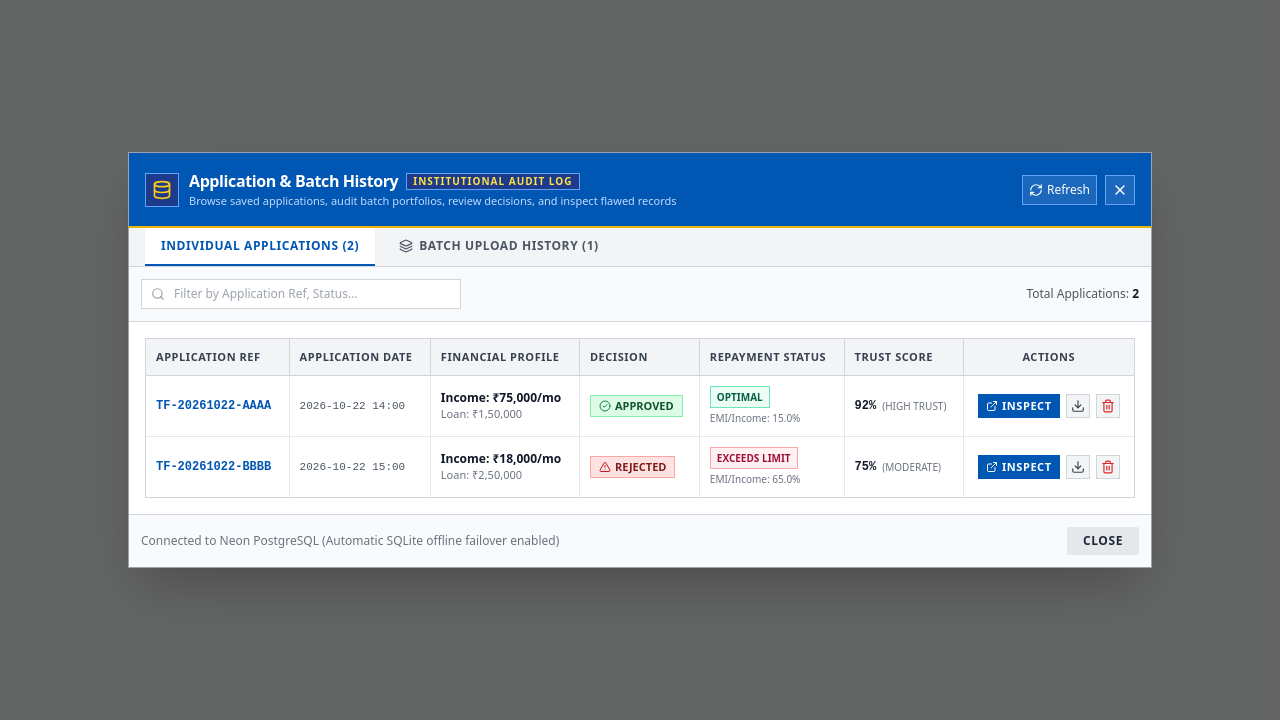
Test: AuditHistoryModal Component (Modular Test) › filters individual applications via search term
Check: the text "TF-20261022-AAAA" is shown, box [146,375,289,436]
Type "BBBB" into the field with placeholder "Filter by Application Ref, Status..." at (301,294), box [141,279,461,309]
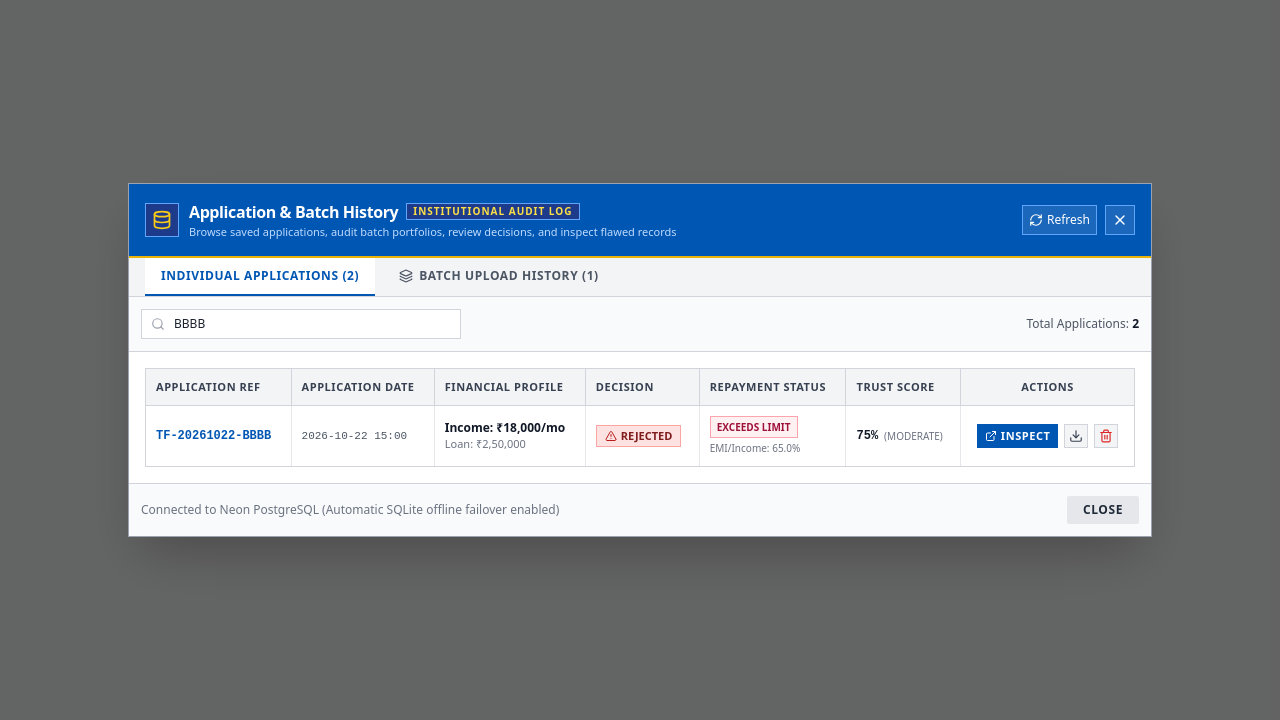
Check: the text "TF-20261022-BBBB" is shown, box [146,406,291,466]
Check: the text "TF-20261022-AAAA" is gone
